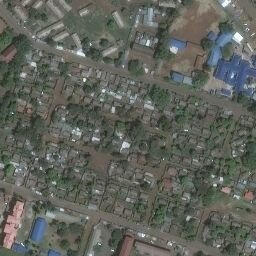tree: (190, 69, 208, 84), (13, 35, 27, 50), (200, 37, 213, 50), (157, 115, 169, 129), (219, 46, 233, 58), (1, 164, 15, 176), (218, 21, 231, 33), (30, 115, 41, 129), (127, 60, 138, 72), (50, 111, 61, 123), (57, 62, 69, 73), (68, 222, 81, 232), (111, 229, 122, 240), (45, 168, 57, 178), (174, 114, 186, 124), (59, 239, 70, 249), (107, 20, 117, 31), (140, 181, 150, 191), (39, 12, 49, 21), (178, 175, 188, 184), (138, 142, 147, 151), (216, 125, 226, 133), (99, 38, 108, 46), (83, 85, 92, 93), (136, 68, 146, 75), (55, 228, 64, 235), (188, 148, 197, 155), (102, 56, 112, 62)
